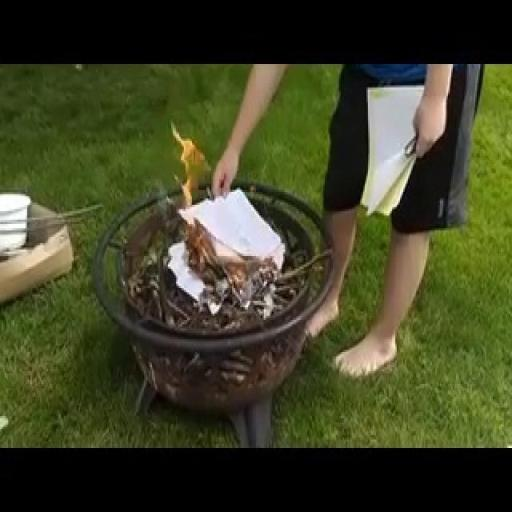smoke: (170, 121, 225, 280)
